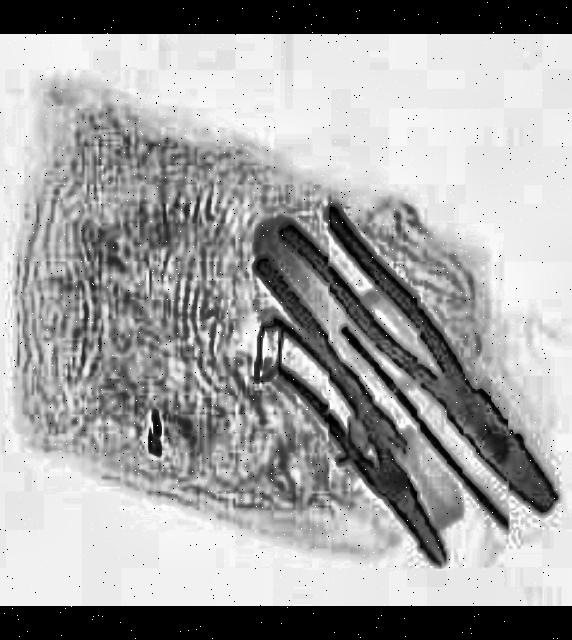Pliers: (269, 193, 572, 532), (214, 253, 464, 584)
